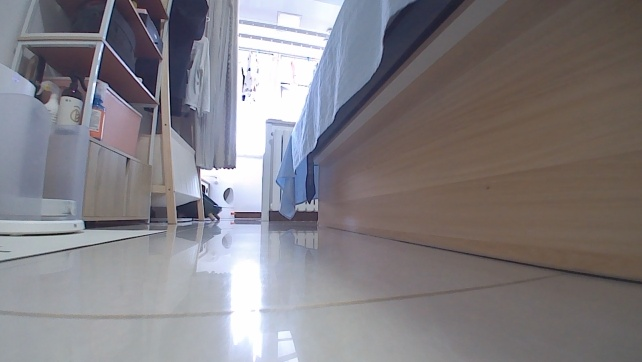bed1: (274, 0, 641, 285)
